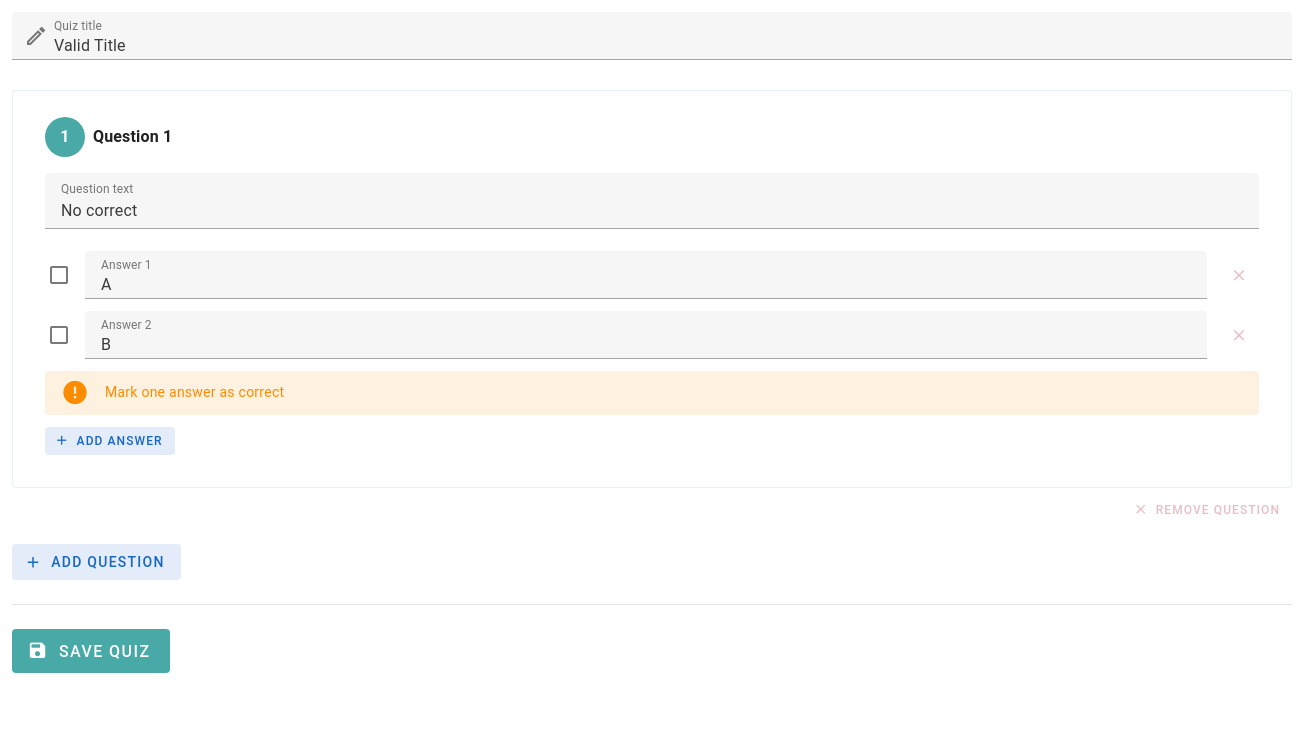
Test: QuizForm › form validation › should show a validation message when a question has no correct answer
Click the button with test id "save-btn". click: (91, 651)
box: [12,629,170,673]
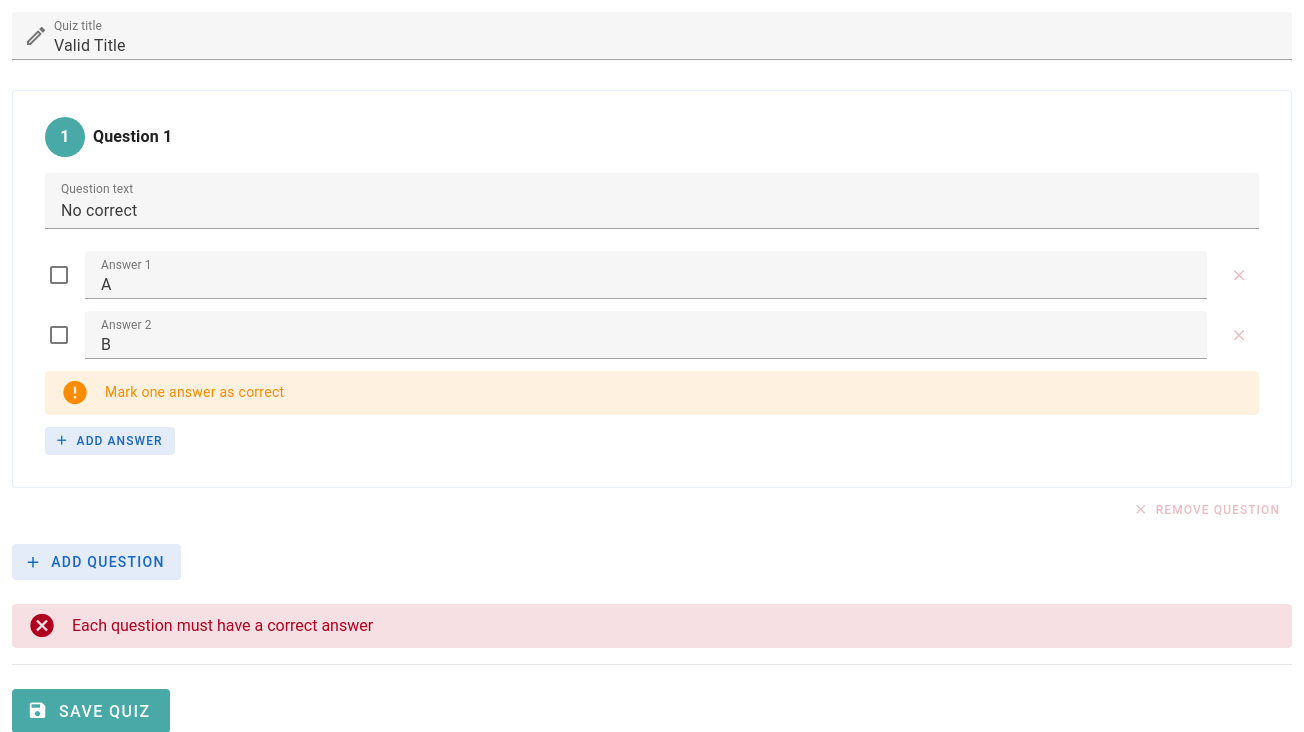
expect the text "Each question must have a correct answer" is shown: met, box [72,616,373,635]
